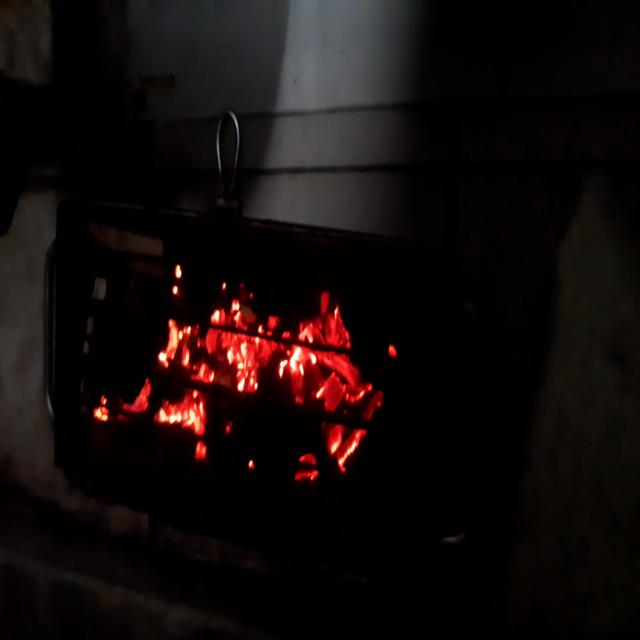Fire: (88, 243, 396, 504)
